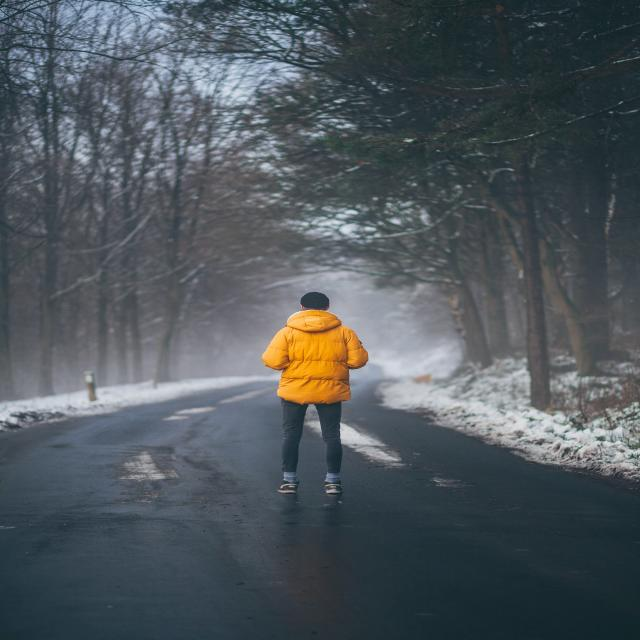adult: (260, 287, 366, 497)
